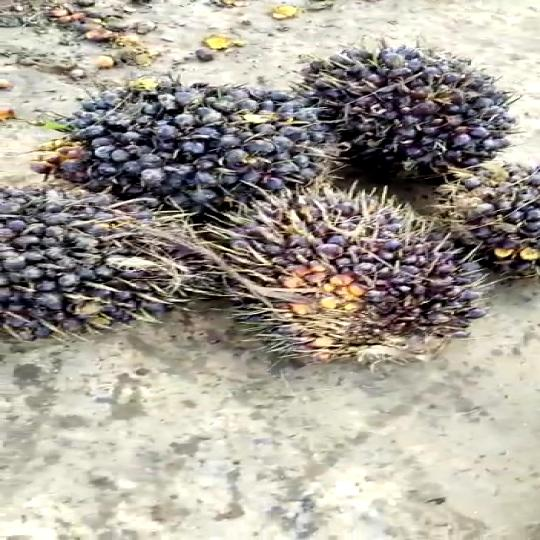mentah: (0, 34, 540, 366)
